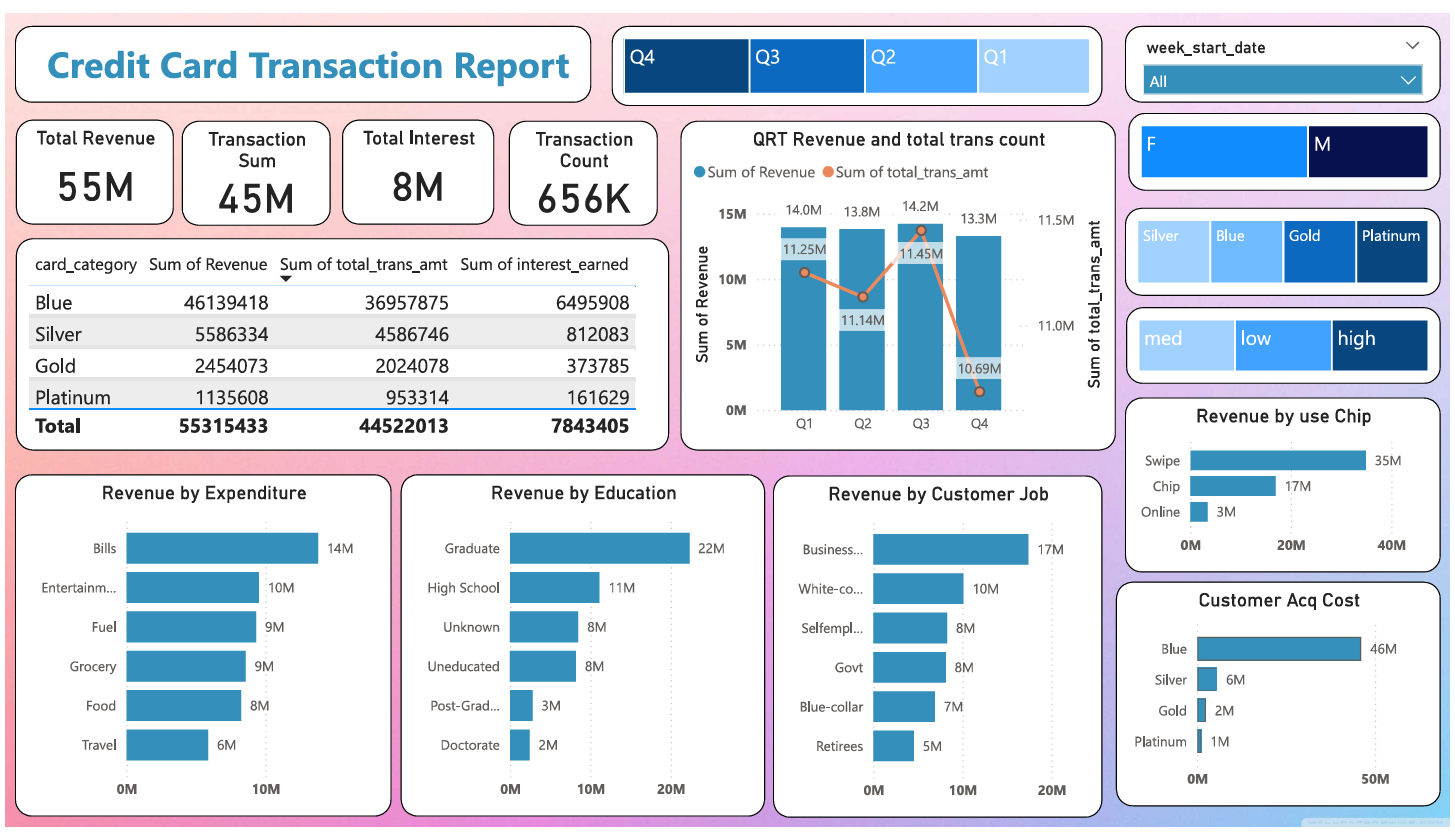

What the dashboard file says about the page in this screenshot:
{"tool":"powerbi","page":{"name":"CC Transaction Report","canvas":[1280,720],"ordinal":0},"visuals":[{"type":"textbox","box":[8.3,10.8,510.8,68.3],"z":0},{"type":"lineStackedColumnComboChart","title":"QRT Revenue and total trans count","fields":{"Category":["public cc_detail.qtr"],"Y":["Sum(public cc_detail.Revenue)"],"Y2":["Sum(public cc_detail.total_trans_amt)"]},"box":[597.5,95,386.7,291.7],"z":1000},{"type":"barChart","title":"Revenue by Expenditure ","fields":{"Y":["Sum(public cc_detail.Revenue)"],"Category":["public cc_detail.exp_type"]},"box":[8.3,408.3,333.3,302.5],"z":2000},{"type":"barChart","title":"Revenue by Education","fields":{"Y":["Sum(public cc_detail.Revenue)"],"Category":["public cust_detail.education_level"]},"box":[350,408.3,322.5,302.5],"z":3000},{"type":"barChart","title":"Revenue by Customer Job","fields":{"Y":["Sum(public cc_detail.Revenue)"],"Category":["public cust_detail.customer_job"]},"box":[680,409.2,291.7,302.5],"z":4000},{"type":"barChart","title":"Customer Acq Cost","fields":{"Y":["Sum(public cc_detail.Revenue)"],"Category":["public cc_detail.card_category"]},"box":[984.2,503.3,287.5,198.3],"z":5000},{"type":"barChart","title":"Revenue by use Chip","fields":{"Y":["Sum(public cc_detail.Revenue)"],"Category":["public cc_detail.use_chip"]},"box":[991.7,340,280,155],"z":6000},{"type":"tableEx","fields":{"Values":["public cc_detail.card_category","Sum(public cc_detail.Revenue)","Sum(public cc_detail.total_trans_amt)","Sum(public cc_detail.interest_earned)"]},"box":[9.2,199.2,578.3,187.5],"z":7000},{"type":"card","title":"Total Revenue","fields":{"Values":["Sum(public cc_detail.Revenue)"]},"box":[9.2,94.2,140,92.5],"z":8000},{"type":"card","title":"Transaction Sum","fields":{"Values":["Sum(public cc_detail.total_trans_amt)"]},"box":[155.8,95,132.5,92.5],"z":9000},{"type":"card","title":"Total Interest","fields":{"Values":["Sum(public cc_detail.interest_earned)"]},"box":[298.3,94.2,135,92.5],"z":10000},{"type":"card","title":"Transaction Count","fields":{"Values":["Sum(public cc_detail.total_trans_ct)"]},"box":[445.8,95,131.7,92.5],"z":11000},{"type":"slicer","fields":{"Values":["public cc_detail.week_start_date"]},"box":[991.9,10.6,280,68.8],"z":12000},{"type":"treemap","fields":{"Group":["public cc_detail.qtr"],"Values":["Avg(public cc_detail.client_num)"]},"box":[536.7,10.8,435,70.8],"z":13000},{"type":"treemap","fields":{"Group":["public cust_detail.gender"],"Values":["CountNonNull(public cc_detail.qtr)"]},"box":[995,88.3,276.7,68.3],"z":14000},{"type":"treemap","fields":{"Group":["public cust_detail.Income_group"],"Values":["Avg(public cc_detail.client_num)"]},"box":[992.5,260,279.4,67.5],"z":15000},{"type":"treemap","fields":{"Group":["public cc_detail.card_category"],"Values":["Avg(public cc_detail.client_num)"]},"box":[991.9,171.9,280,78.1],"z":16000}]}

Visuals, with their boxes in screenshot pixels (x1, y1, x2, y2), scaled from the page's 1280x720 canvas onto the 1455x834 screenshot:
textbox: box=[9, 13, 590, 92]
"QRT Revenue and total trans count" lineStackedColumnComboChart: box=[679, 110, 1119, 448]
"Revenue by Expenditure " barChart: box=[9, 473, 388, 823]
"Revenue by Education" barChart: box=[398, 473, 764, 823]
"Revenue by Customer Job" barChart: box=[773, 474, 1105, 824]
"Customer Acq Cost" barChart: box=[1119, 583, 1446, 813]
"Revenue by use Chip" barChart: box=[1127, 394, 1446, 573]
tableEx - public cc_detail.card_category x Sum(public cc_detail.Revenue): box=[10, 231, 668, 448]
"Total Revenue" card: box=[10, 109, 170, 216]
"Transaction Sum" card: box=[177, 110, 328, 217]
"Total Interest" card: box=[339, 109, 493, 216]
"Transaction Count" card: box=[507, 110, 656, 217]
slicer - public cc_detail.week_start_date: box=[1128, 12, 1446, 92]
treemap - public cc_detail.qtr x Avg(public cc_detail.client_num): box=[610, 13, 1105, 95]
treemap - public cust_detail.gender x CountNonNull(public cc_detail.qtr): box=[1131, 102, 1446, 181]
treemap - public cust_detail.Income_group x Avg(public cc_detail.client_num): box=[1128, 301, 1446, 379]
treemap - public cc_detail.card_category x Avg(public cc_detail.client_num): box=[1128, 199, 1446, 290]
